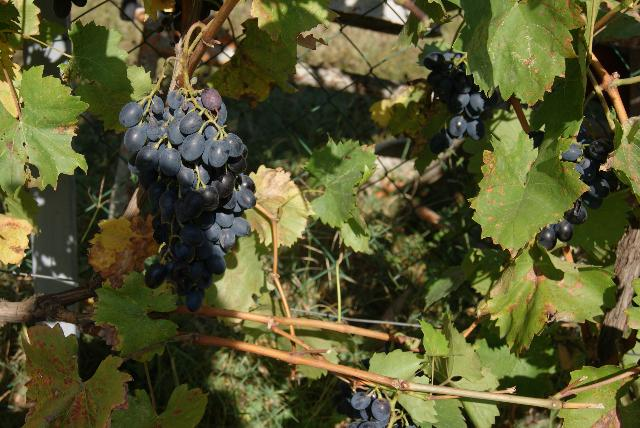grapes: (120, 84, 256, 311)
